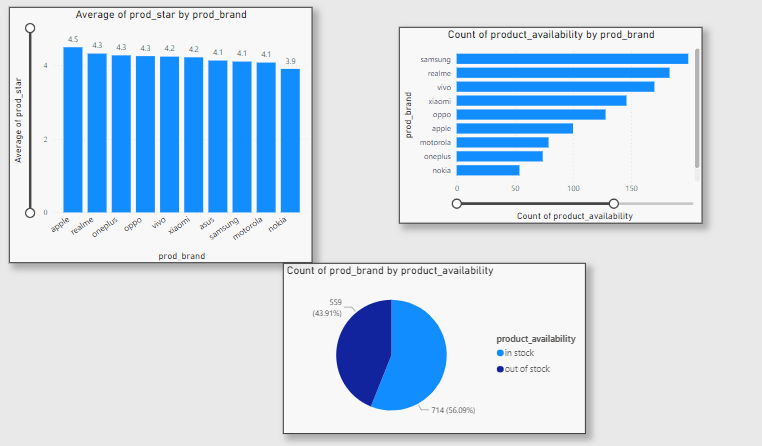

What the dashboard file says about the page in this screenshot:
{"tool":"powerbi","page":{"name":"Page 1","canvas":[1280,720],"ordinal":0},"visuals":[{"type":"columnChart","fields":{"Category":["final (2).prod_brand"],"Y":["Avg(final (2).prod_star)"]},"box":[31.9,20.2,473.7,399.8],"z":0},{"type":"barChart","fields":{"Category":["final (2).prod_brand"],"Y":["CountNonNull(final (2).product_availability)"]},"box":[640,52.1,473.7,307.4],"z":1000},{"type":"pieChart","fields":{"Category":["final (2).product_availability"],"Y":["CountNonNull(final (2).prod_brand)"]},"box":[459.4,420.3,473.4,267.2],"z":2000}]}

Visuals, with their boxes on the page's 1280x720 design canvas (x1, y1, x2, y2). These are canvas units, not pixel positions in the 762x446 screenshot, which may show the page scaled, cropped or inside an application window:
columnChart - final (2).prod_brand x Avg(final (2).prod_star): select_region(32, 20, 506, 420)
barChart - final (2).prod_brand x CountNonNull(final (2).product_availability): select_region(640, 52, 1114, 360)
pieChart - final (2).product_availability x CountNonNull(final (2).prod_brand): select_region(459, 420, 933, 688)
